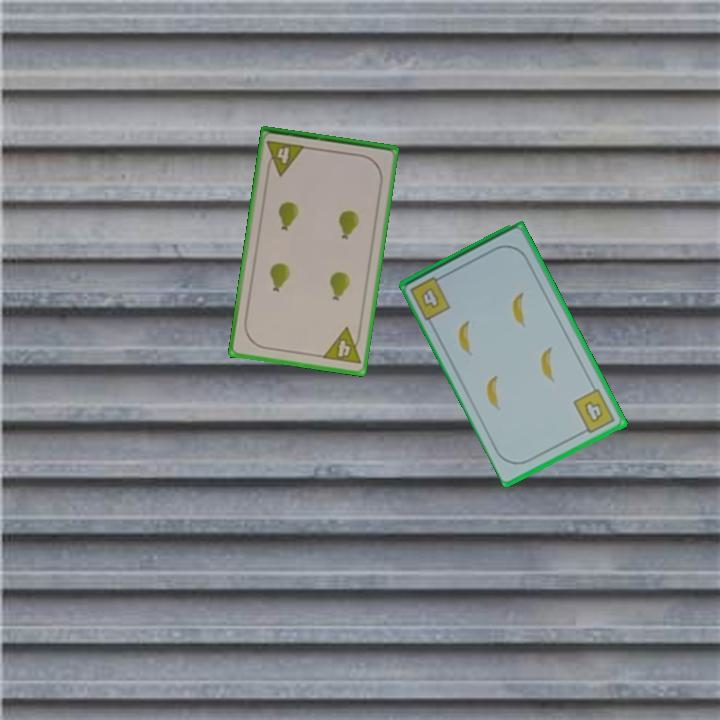4b: (570, 386, 619, 437), (407, 270, 454, 323)
4p: (319, 324, 364, 367), (263, 137, 308, 178)
